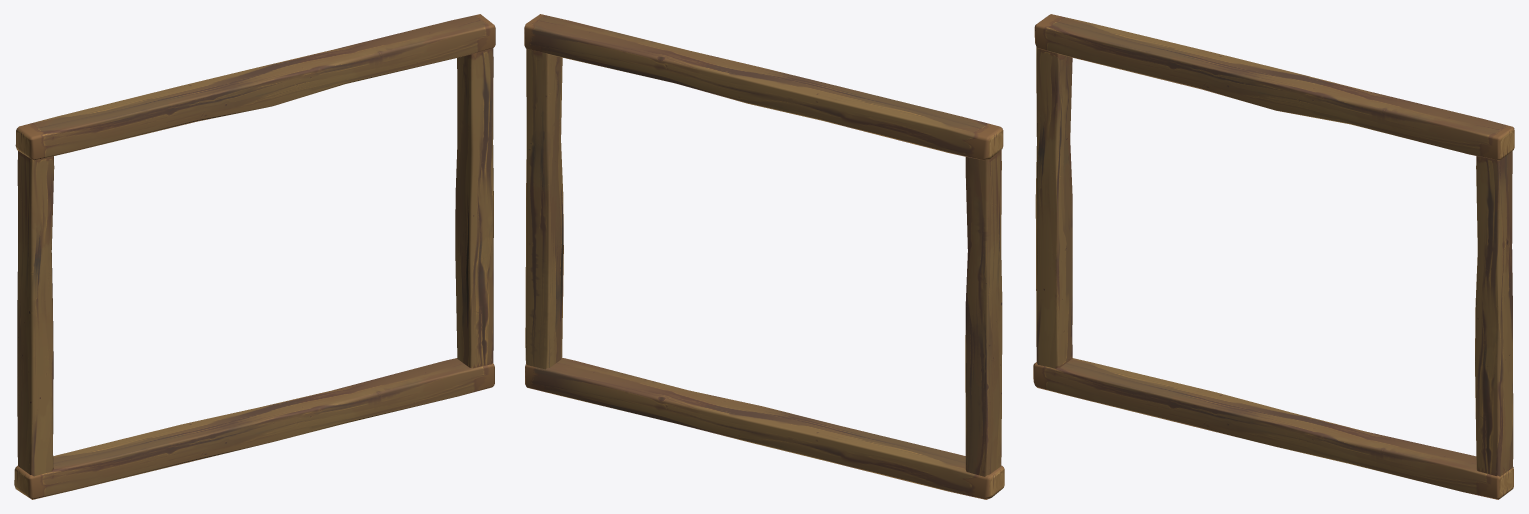
The model's file is SM_MOD_wall_standard_frame_town.fbx.
3 views of the same model, side by side, from view 1: azimuth 30°, elevation 25°; view 2: azimuth 150°, elevation 25°; view 3: azimuth 330°, elevation 25° (orthographic).
Visible parts, largest first — view 1: SM_MOD_wall_standard_frame_town_LOD0; view 2: SM_MOD_wall_standard_frame_town_LOD0; view 3: SM_MOD_wall_standard_frame_town_LOD0.
Boxes of the visible parts, x1=… form: SM_MOD_wall_standard_frame_town_LOD0: x1=14, y1=14, x2=495, y2=499; SM_MOD_wall_standard_frame_town_LOD0: x1=524, y1=14, x2=1004, y2=499; SM_MOD_wall_standard_frame_town_LOD0: x1=1033, y1=14, x2=1514, y2=499.
Size of what is drawn, in the model's own units: 403 by 300 by 25.65.
